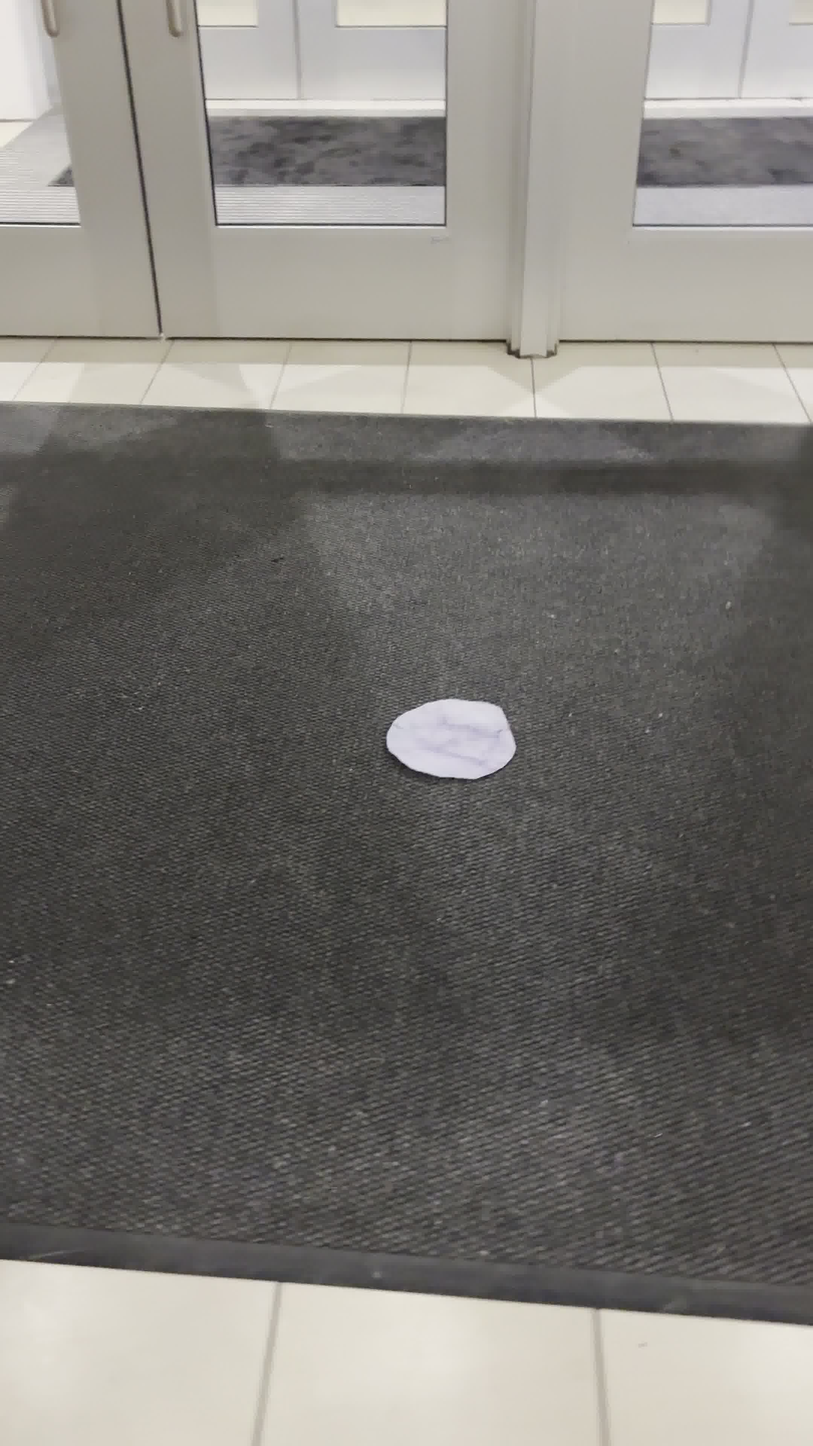Target: (387, 698, 516, 780)
